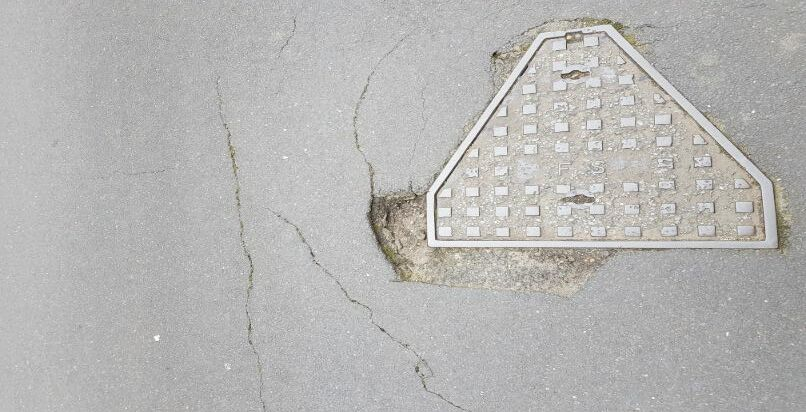pothole: (363, 189, 615, 296)
